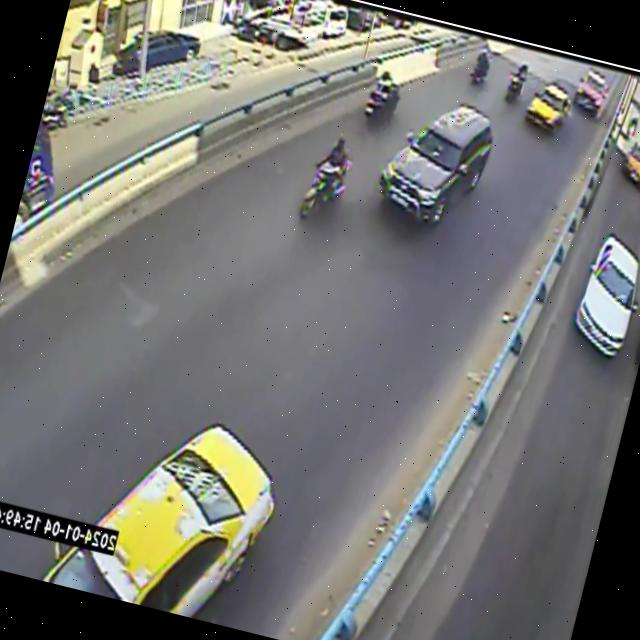car: (44, 425, 274, 617), (379, 103, 493, 223), (525, 82, 572, 132), (573, 70, 609, 118)
